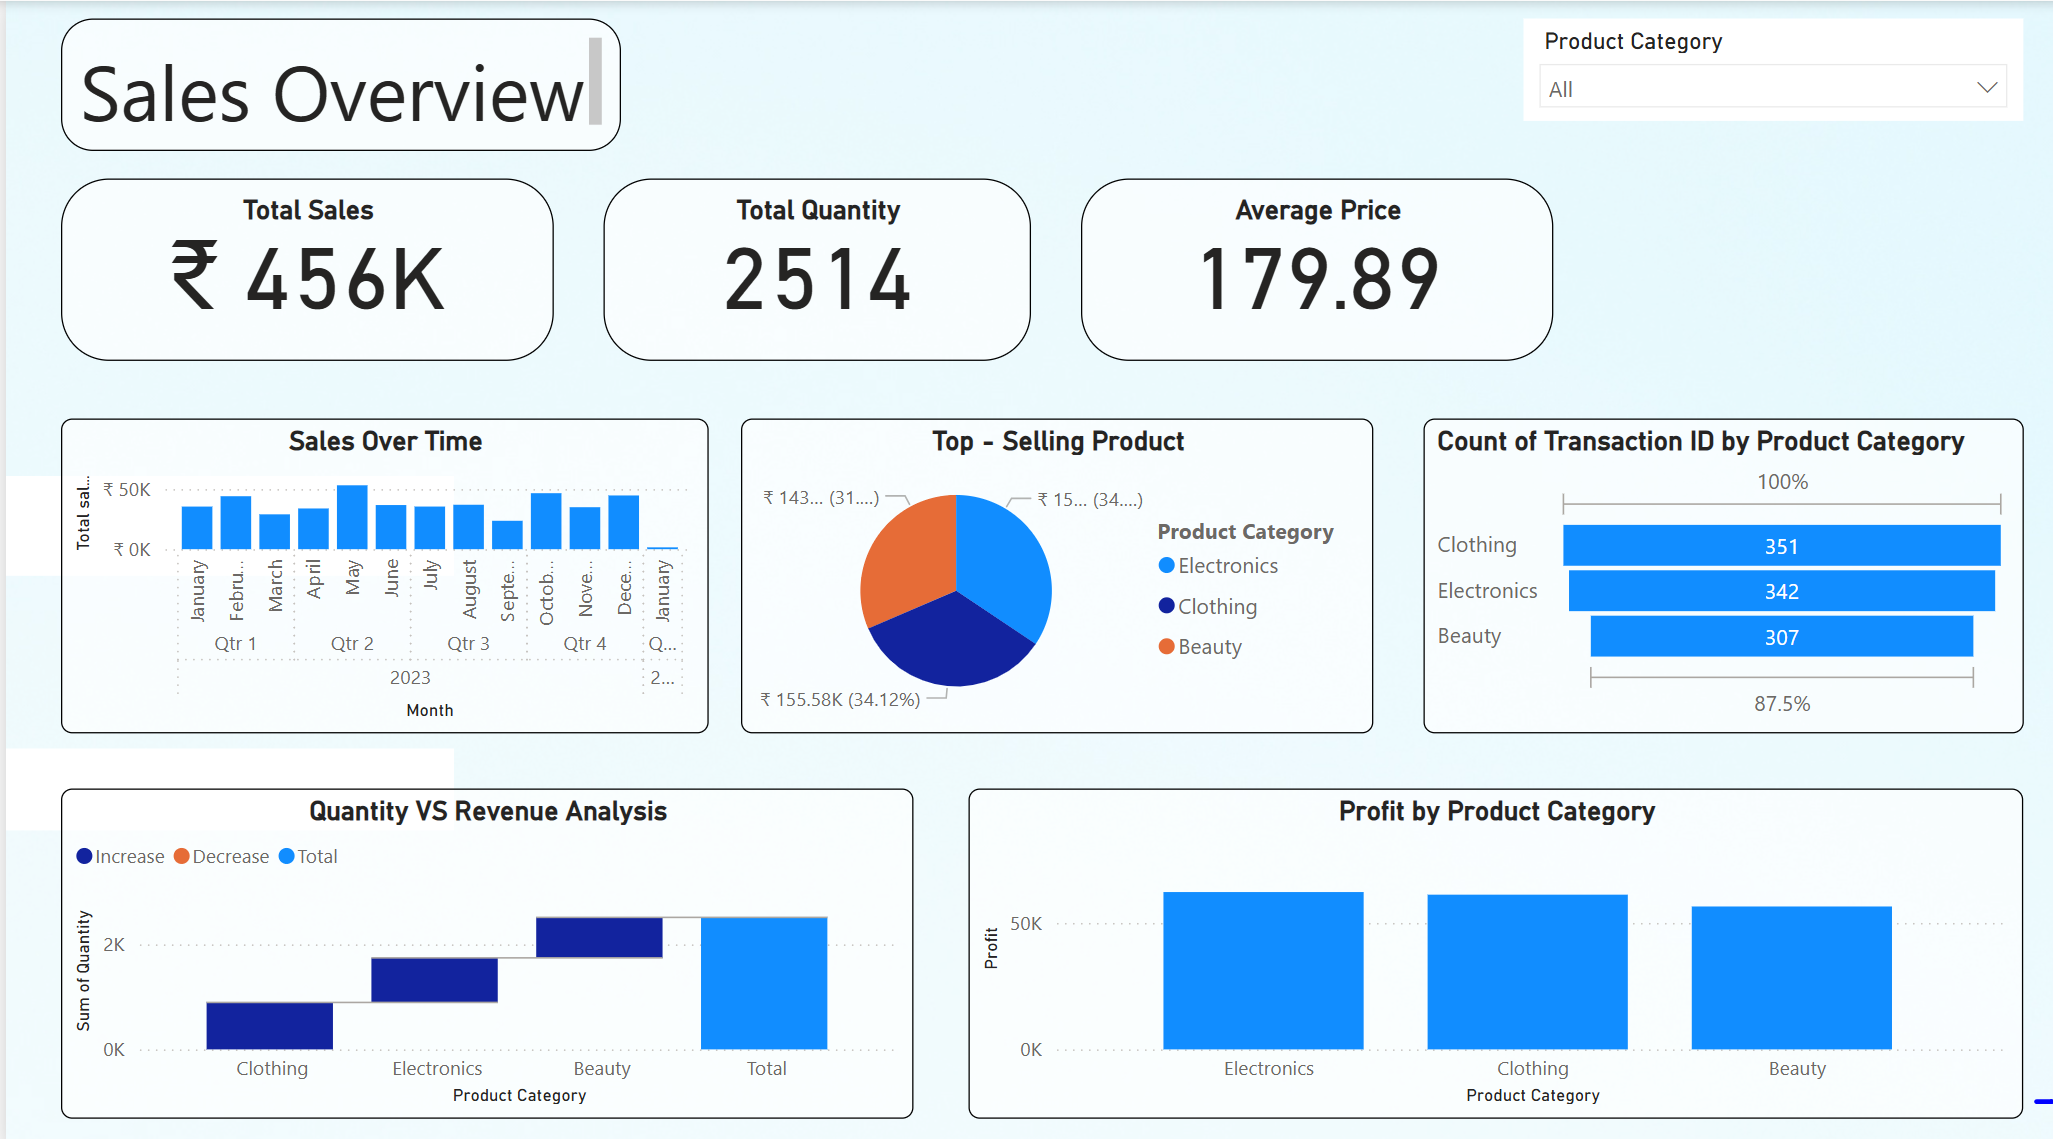

Layout of this report page (visuals, bound fields, positions):
{"tool":"powerbi","page":{"name":"Page 1","canvas":[1280,720],"ordinal":0},"visuals":[{"type":"card","title":"Total Sales","fields":{"Values":["FactSales.Total sales"]},"box":[34.4,110.9,307.8,114.1],"z":0},{"type":"card","title":"Total Quantity","fields":{"Values":["FactSales.Total Quantity"]},"box":[373.4,110.9,267.2,114.1],"z":1000},{"type":"card","title":"Average Price","fields":{"Values":["FactSales.Average Price"]},"box":[671.9,110.9,295.3,114.1],"z":2000},{"type":"textbox","box":[0,296.9,279.9,62.4],"z":3000},{"type":"textbox","box":[0,467.1,279.9,51.1],"z":4000},{"type":"textbox","box":[34.4,10.9,350,82.8],"z":5000},{"type":"lineClusteredColumnComboChart","title":"Sales Over Time","fields":{"Y":["FactSales.Total sales"],"Category":["FactSales.Date.Variation.Date Hierarchy.Year","FactSales.Date.Variation.Date Hierarchy.Quarter","FactSales.Date.Variation.Date Hierarchy.Month","FactSales.Date.Variation.Date Hierarchy.Day"]},"box":[34.4,260.9,404.7,196.9],"z":6000},{"type":"pieChart","title":"Top - Selling Product","fields":{"Category":["FactSales.Product Category"],"Y":["FactSales.Total sales"]},"box":[459.4,260.9,395.3,196.9],"z":7000},{"type":"waterfallChart","title":"Quantity VS Revenue Analysis","fields":{"Category":["FactSales.Product Category"],"Y":["Sum(FactSales.Quantity)"]},"box":[34.4,492.2,532.8,206.3],"z":8000},{"type":"columnChart","fields":{"Category":["FactSales.Product Category"],"Y":["FactSales.Profit"]},"box":[601.6,492.2,659.4,206.3],"z":9001},{"type":"funnel","fields":{"Y":["CountNonNull(FactSales.Transaction ID)"],"Category":["FactSales.Product Category"]},"box":[885.9,260.9,375,196.9],"z":9002},{"type":"slicer","fields":{"Values":["FactSales.Product Category"]},"box":[948.4,10.9,312.5,64.1],"z":9003}]}

Visuals, with their boxes in screenshot pixels (x1, y1, x2, y2), scaled from the page's 1280x720 canvas onto the 2053x1139 screenshot:
"Total Sales" card: rect(55, 175, 549, 356)
"Total Quantity" card: rect(599, 175, 1027, 356)
"Average Price" card: rect(1078, 175, 1551, 356)
textbox: rect(0, 470, 449, 568)
textbox: rect(0, 739, 449, 820)
textbox: rect(55, 17, 617, 148)
"Sales Over Time" lineClusteredColumnComboChart: rect(55, 413, 704, 724)
"Top - Selling Product" pieChart: rect(737, 413, 1371, 724)
"Quantity VS Revenue Analysis" waterfallChart: rect(55, 779, 910, 1105)
columnChart - FactSales.Product Category x FactSales.Profit: rect(965, 779, 2023, 1105)
funnel - CountNonNull(FactSales.Transaction ID) x FactSales.Product Category: rect(1421, 413, 2022, 724)
slicer - FactSales.Product Category: rect(1521, 17, 2022, 119)
